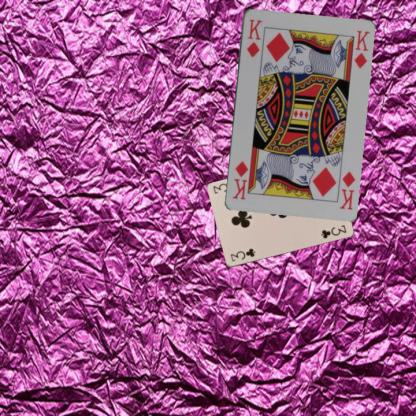3c: (228, 246, 257, 263)
Kd: (244, 16, 263, 58), (337, 168, 356, 210)
